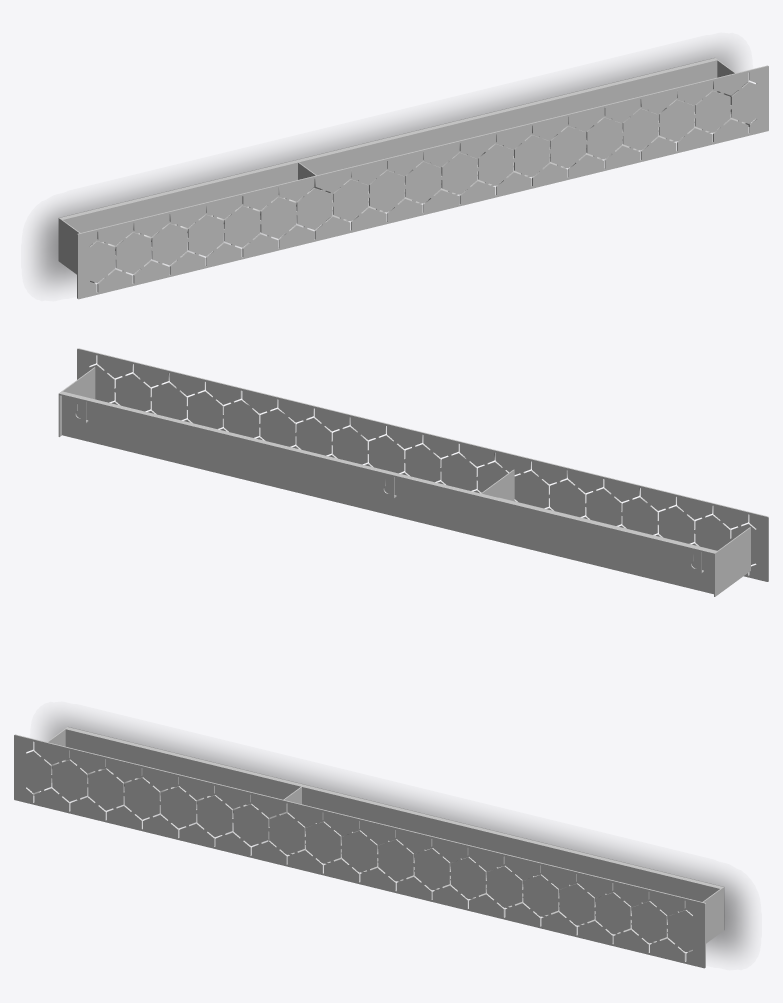
File: bee-double.ad41f59f4e.ar.glb
The picture shows the model from 3 angles, top to bottom: view 1: azimuth 30°, elevation 25°; view 2: azimuth 150°, elevation 25°; view 3: azimuth 330°, elevation 25°; orthographic projection.
Parts seen in each view (by area): view 1: NAUO1, object 2; view 2: NAUO1; view 3: NAUO1, object 2.
Part boxes in pixels (box(x1,y1,x2,y2)): NAUO1: box(58, 57, 768, 299); object 2: box(34, 48, 738, 285); NAUO1: box(58, 348, 768, 596); NAUO1: box(14, 726, 724, 968); object 2: box(44, 717, 748, 954).
Size of the model in its own units: 1.08 by 0.17 by 0.092.
2 materials, 1 textured.
